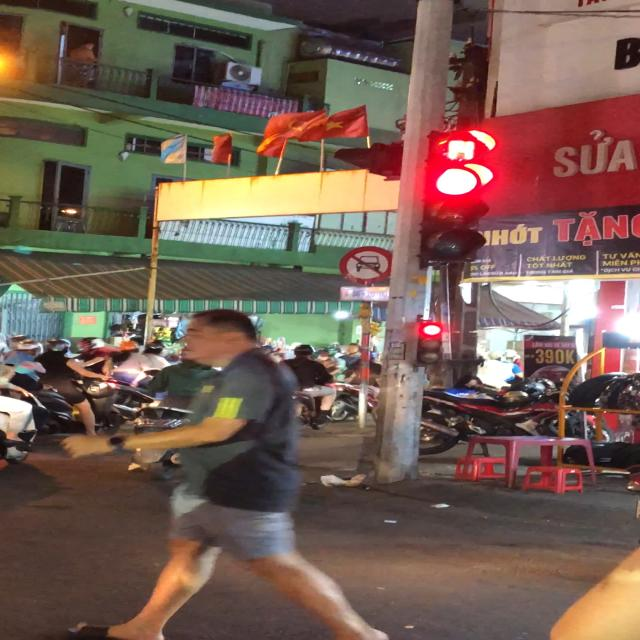Bien bao cam xe oto: (337, 245, 395, 286)
